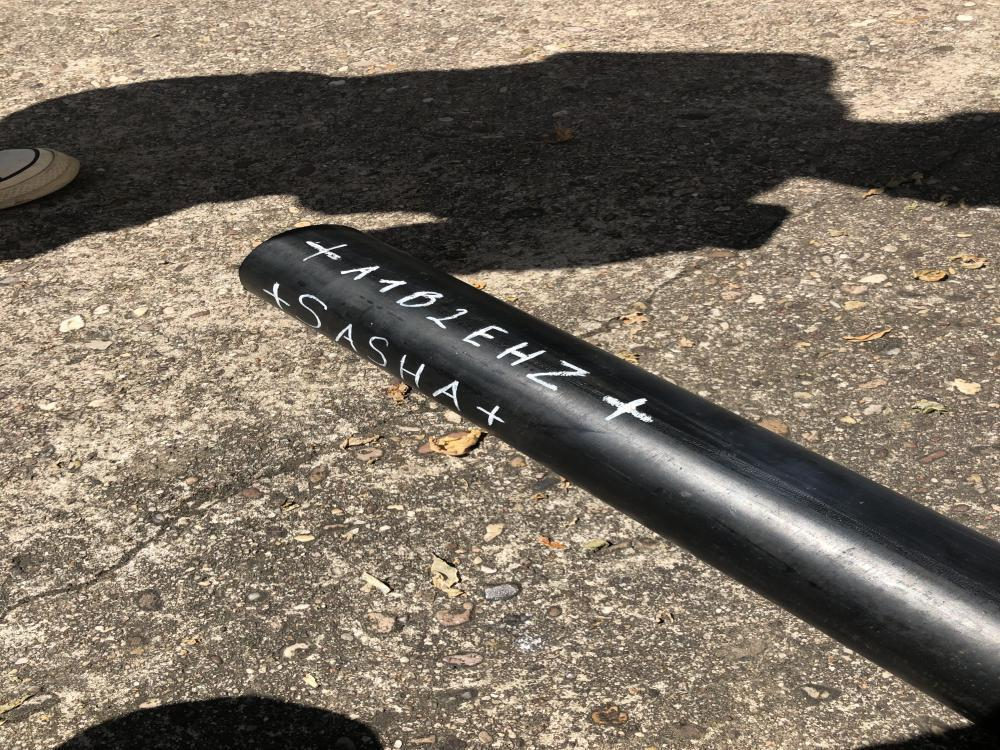+: (602, 396, 654, 423), (303, 241, 348, 260), (263, 282, 291, 310), (476, 405, 504, 426)
1: (377, 278, 407, 292)
2: (426, 308, 468, 328)
A: (432, 380, 462, 410), (334, 324, 358, 351), (341, 265, 379, 280)
B: (398, 292, 443, 308)
E: (463, 324, 508, 348)
H: (496, 341, 546, 367), (399, 354, 424, 388)
S: (296, 294, 329, 329), (366, 336, 389, 366)
Z: (526, 359, 590, 391)
